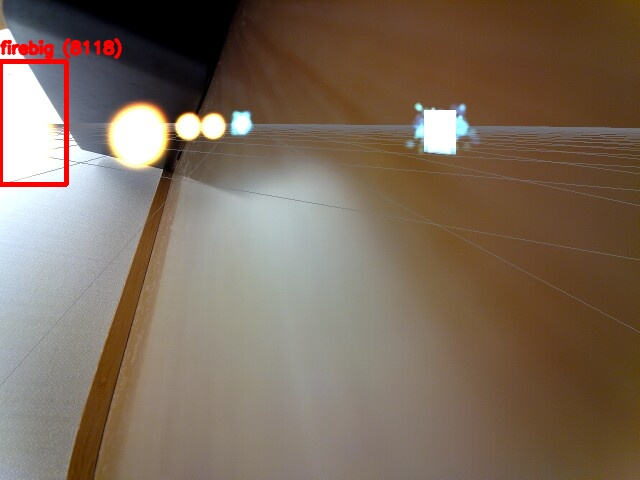firebig: (0, 61, 66, 184)
